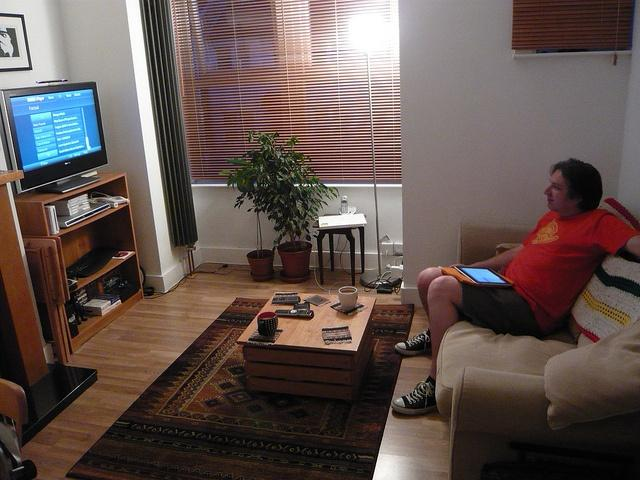AIO PC-Monitor-TV: (0, 79, 108, 196)
Meja: (234, 293, 376, 398)
Rak: (40, 171, 146, 354)
